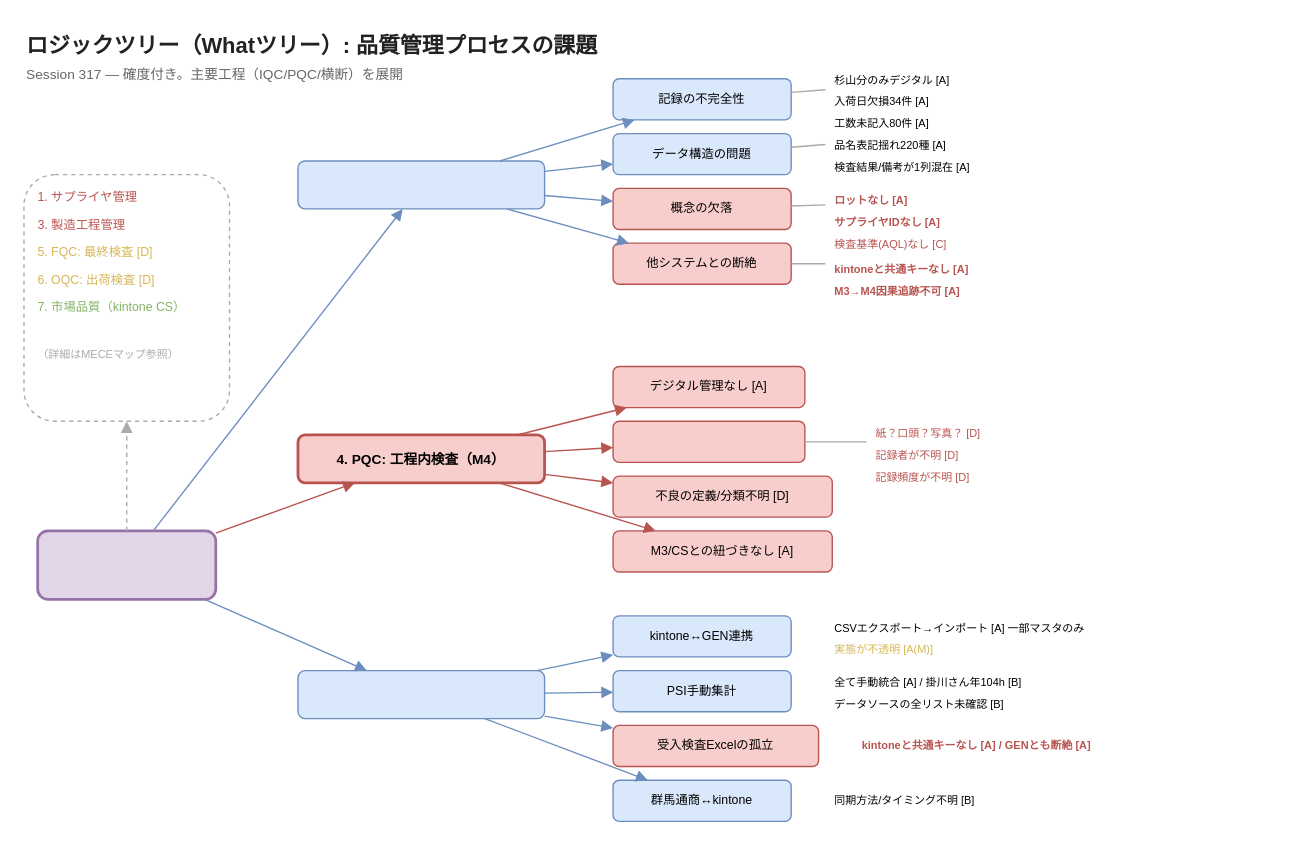
Image size: 1295x845. Some labels were removed from this diagram. Each missing label, with the centre of its shape:
2. IQC: 受入検査（M3）: point 421,184
8. 横断: データ連携・集計: point 421,694
品質管理 プロセスの課題: point 126,564
記録方法が不明 [D]: point 708,441
